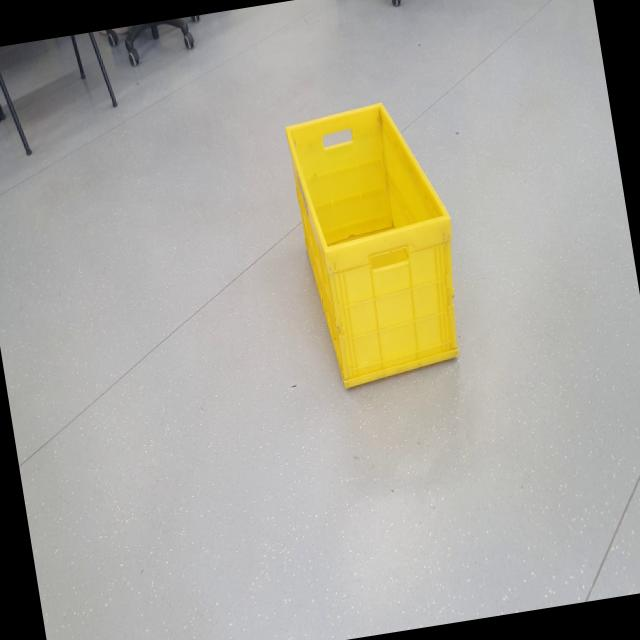box: (282, 86, 477, 399)
